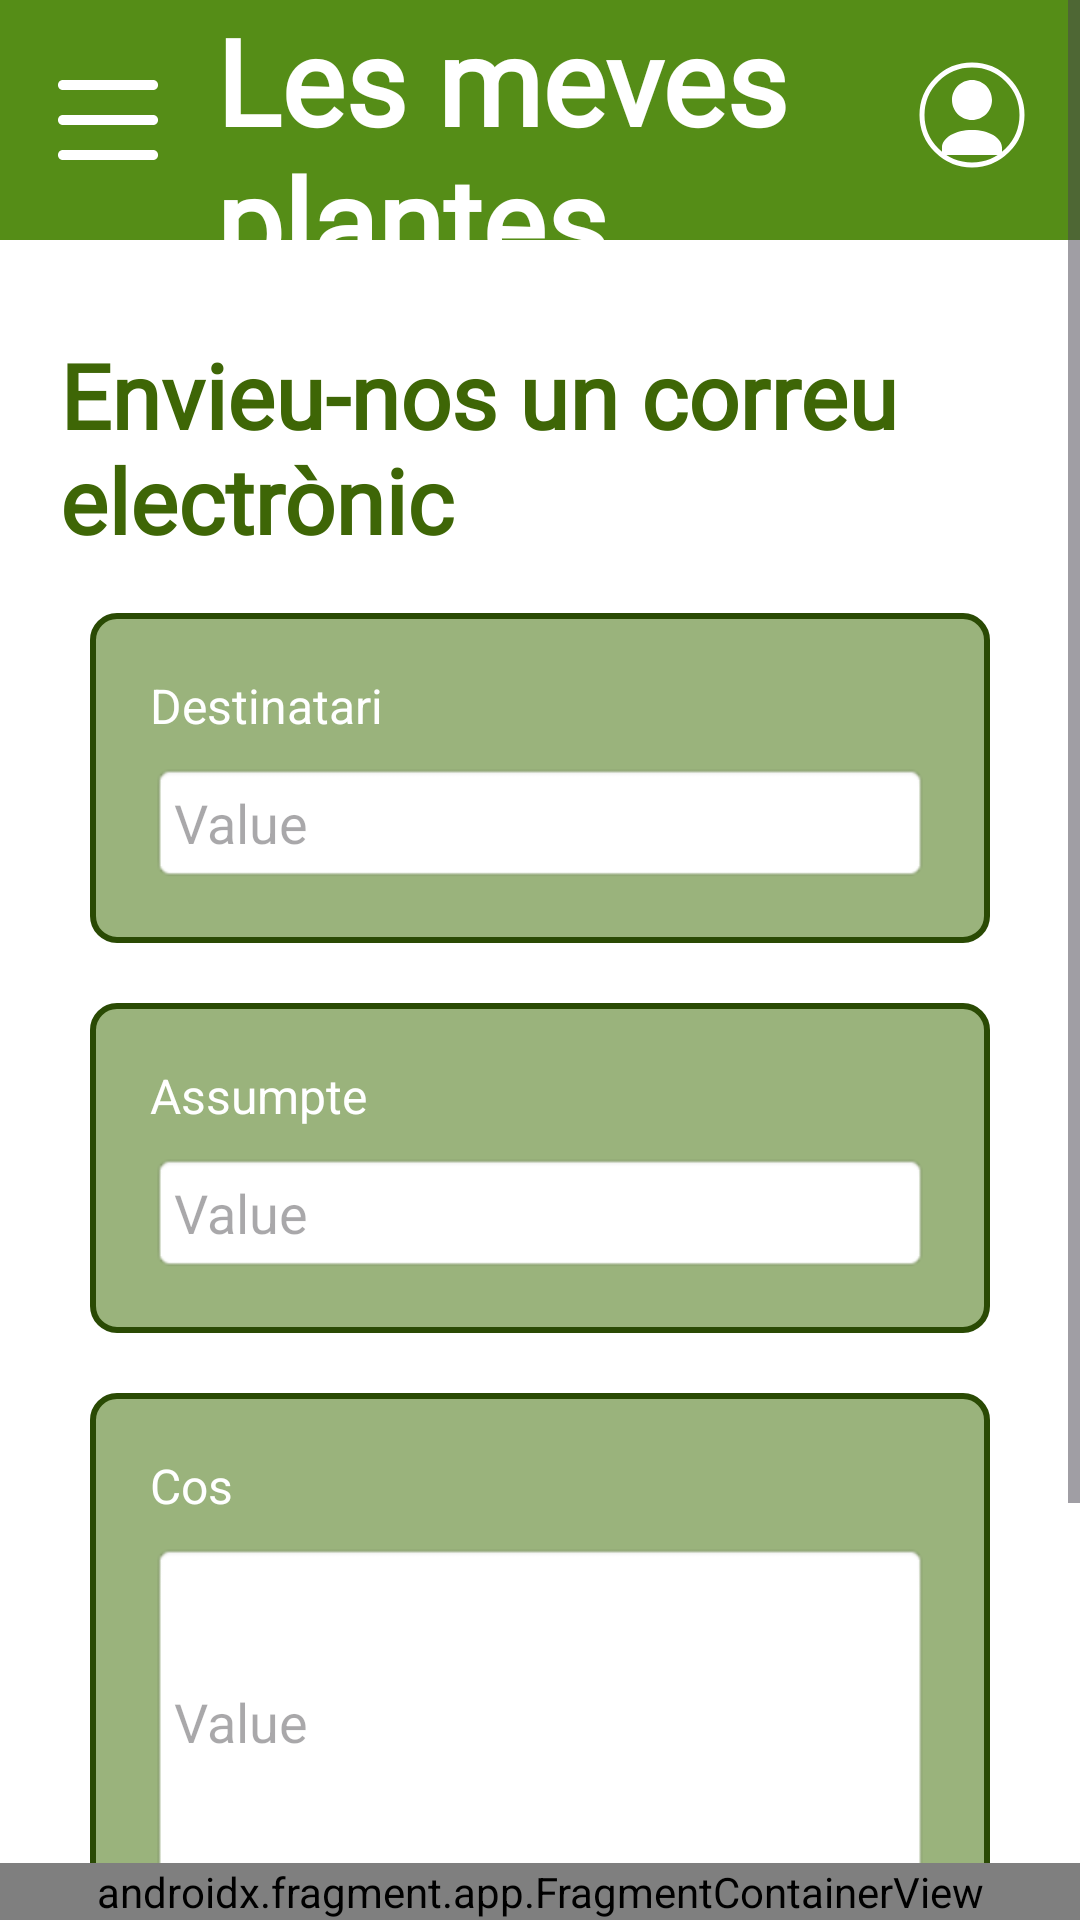

Named icons in this screenshot (1080w x 1920h) and their bounding boxes, (x1, y1, x2, y2):
menu: (58, 80, 158, 160)
user: (919, 62, 1025, 168)
